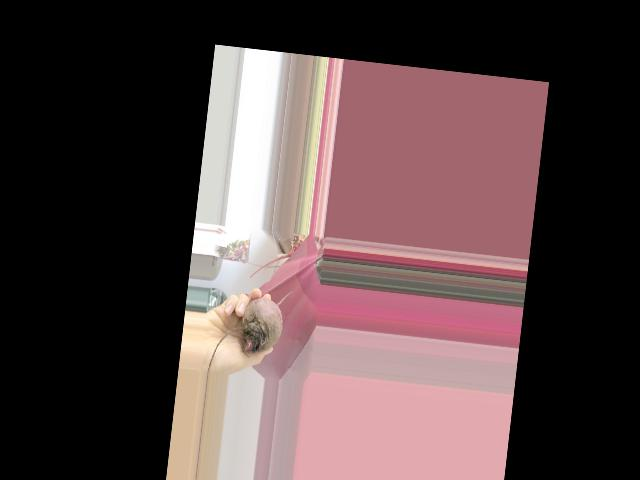beet: (207, 281, 293, 379)
